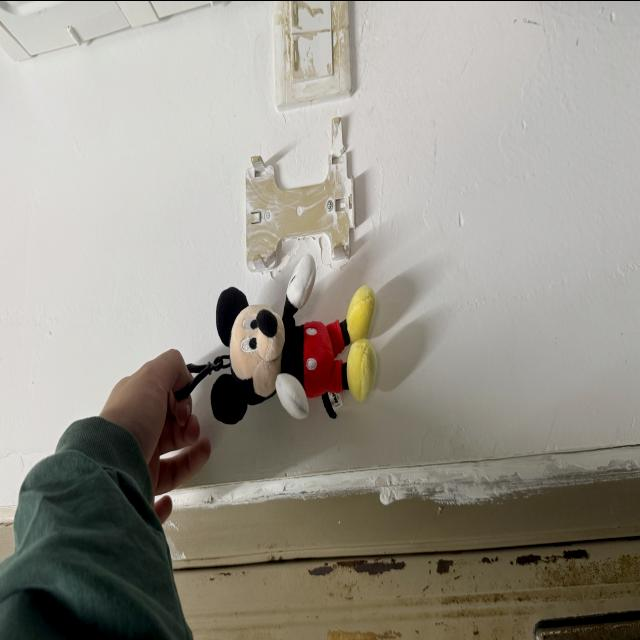mickey: (211, 254, 376, 422)
